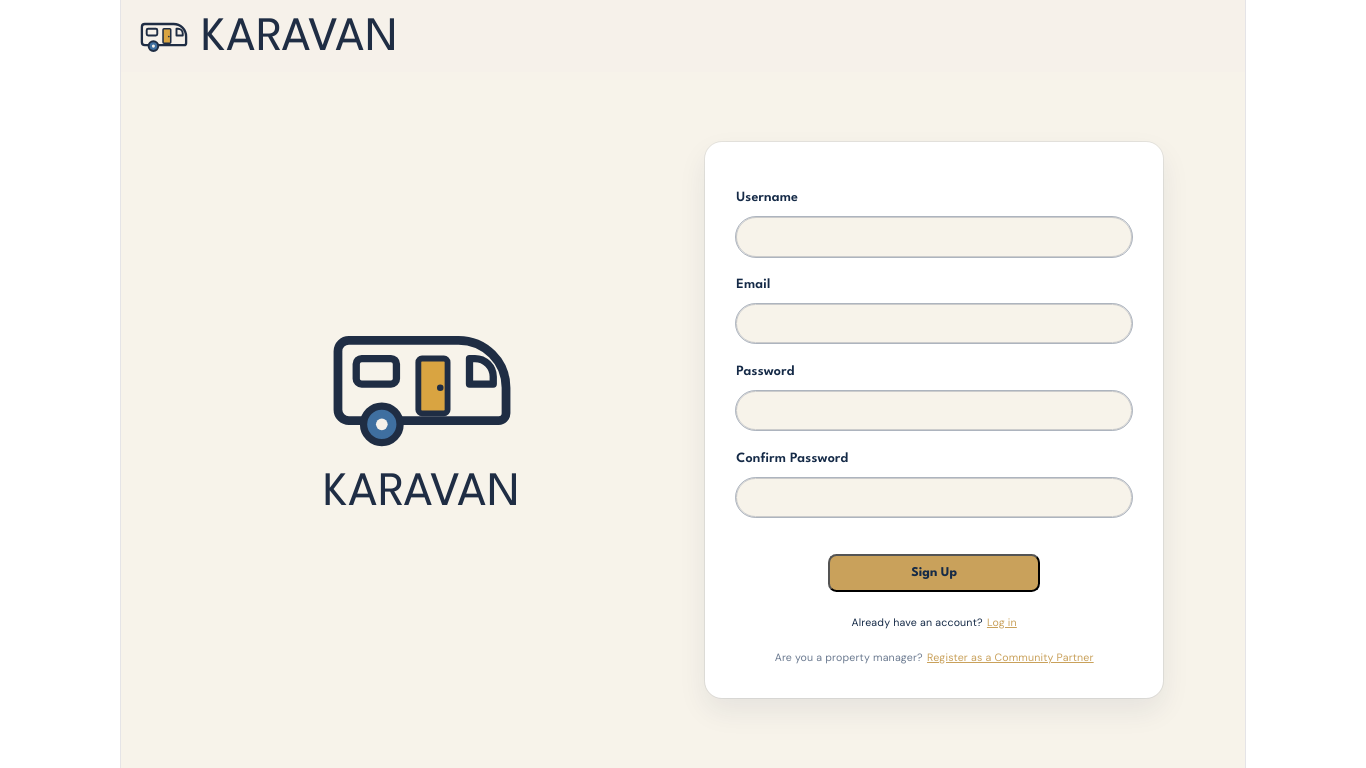
Sign up page › creates the account through register.php
The image size is (1366, 768).
Type "testuser1" into the field named "Username" at coordinates (934, 237), box [736,217,1132,257]
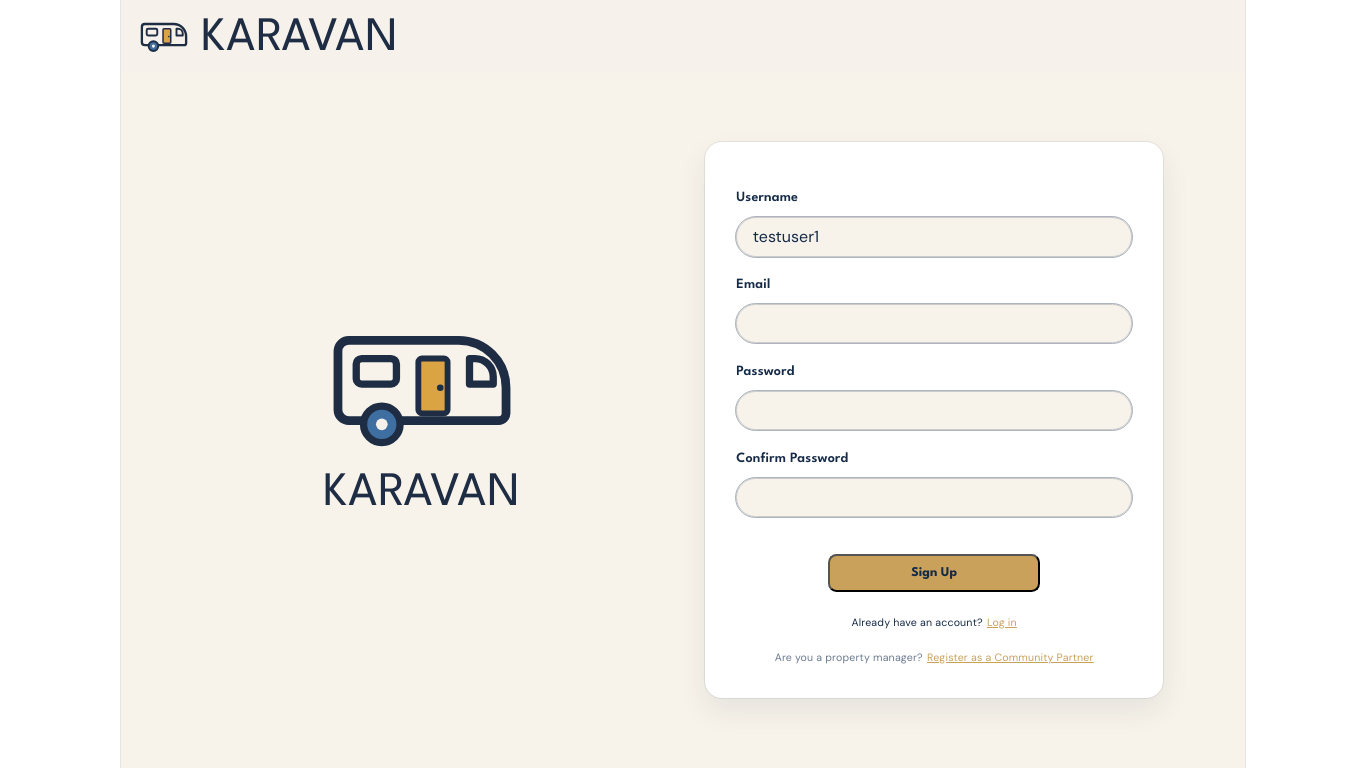
Type "testuser1@test.com" into the field named "Email" at coordinates (934, 324), box [736,304,1132,344]
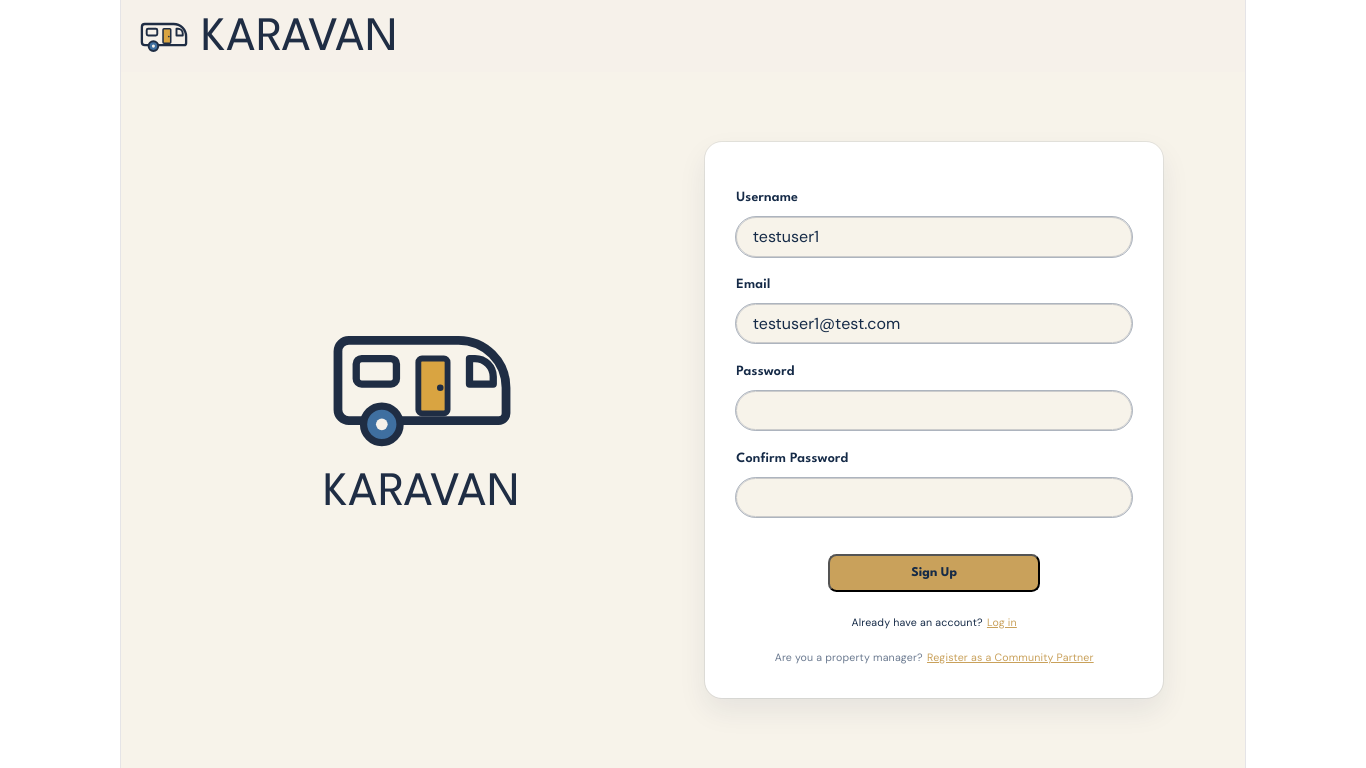
Type "TestUser123!" into the password field named "Password" at coordinates (934, 411), box [736,391,1132,430]
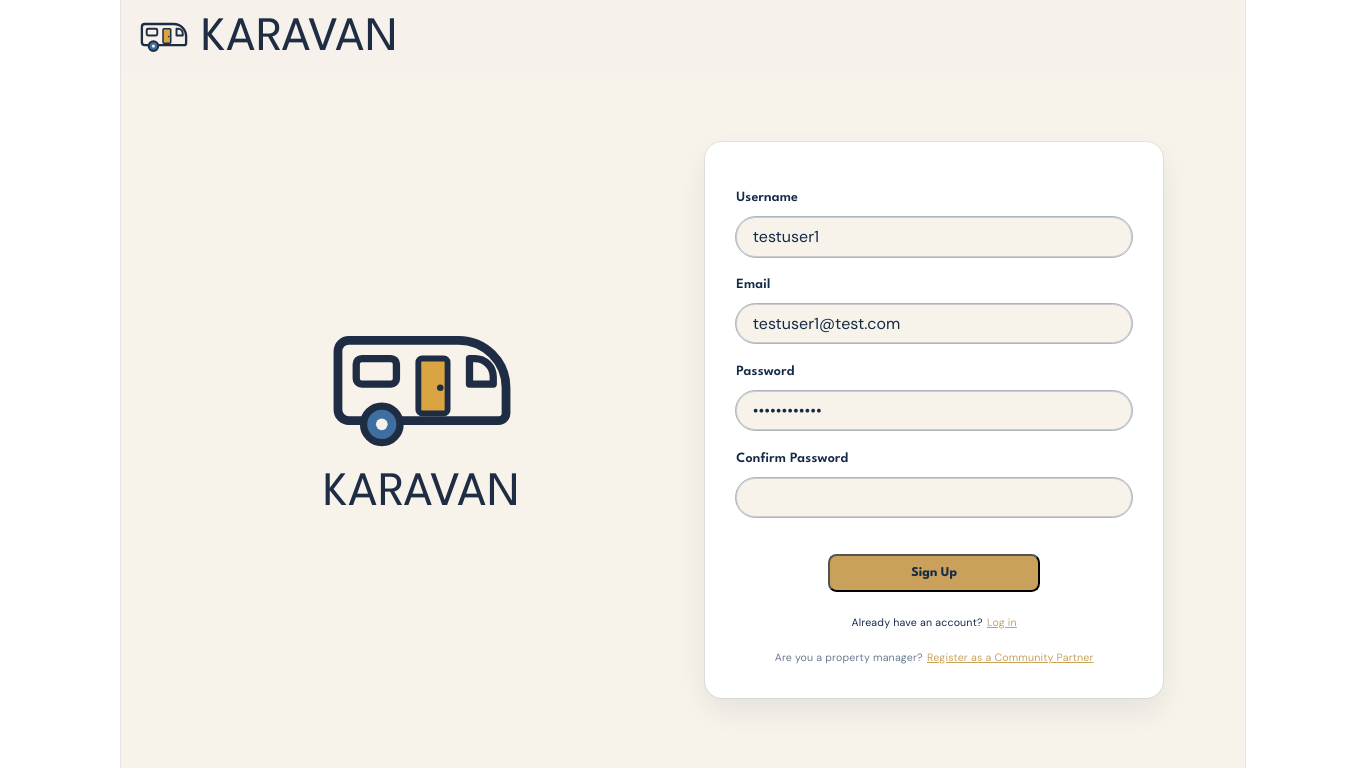
Type "TestUser123!" into the password field named "Confirm Password" at coordinates (934, 497), box [736,478,1132,517]
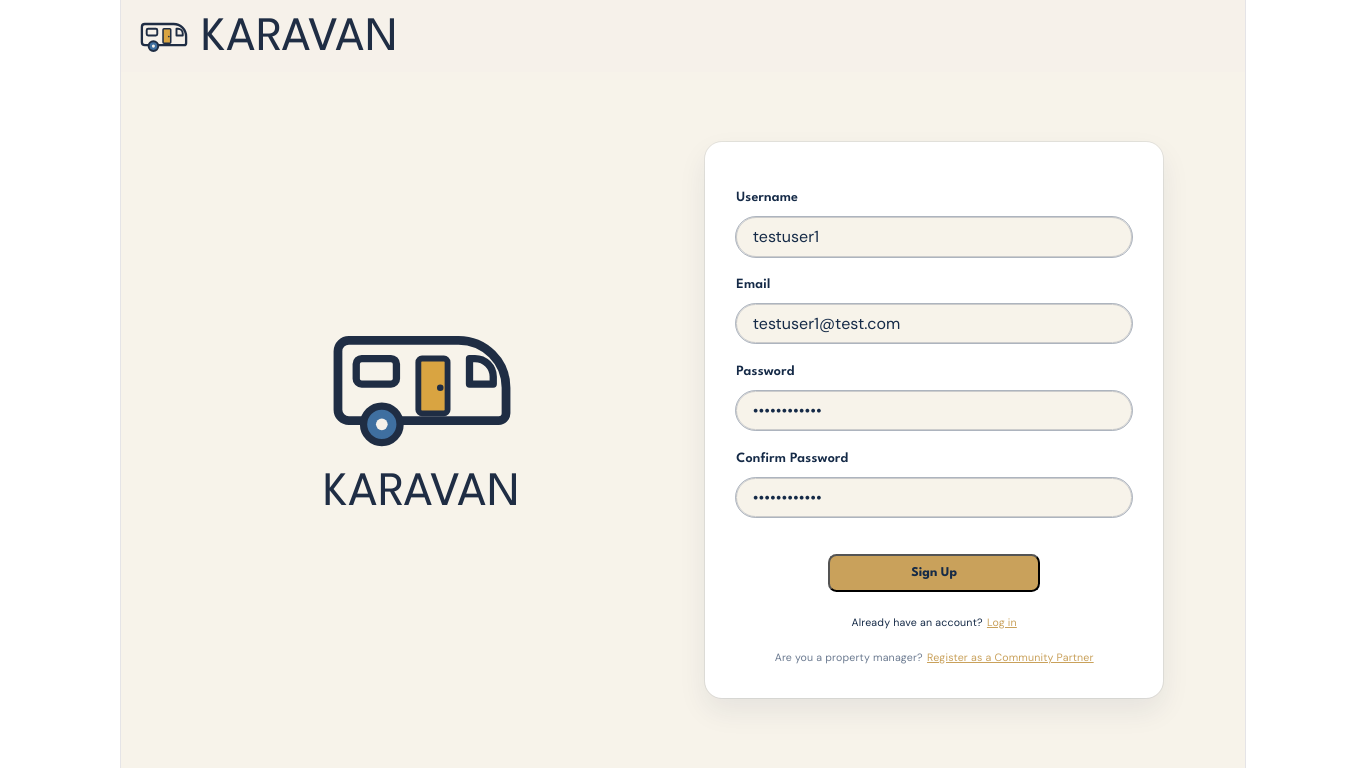
Click the button "Sign Up" at coordinates (934, 573), box [828,554,1040,592]
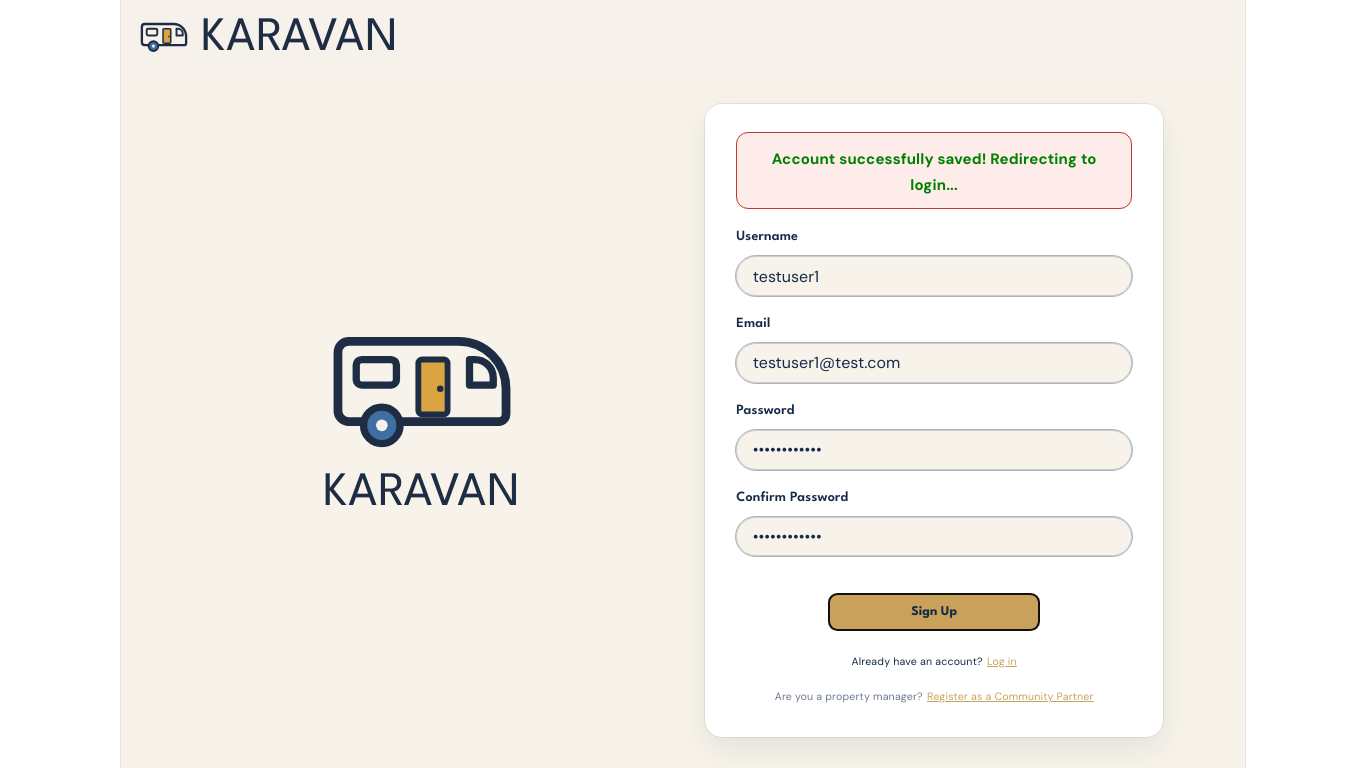
expect the text "Account successfully saved! Redirecting to login..." is shown: met, box [754,146,1114,198]
